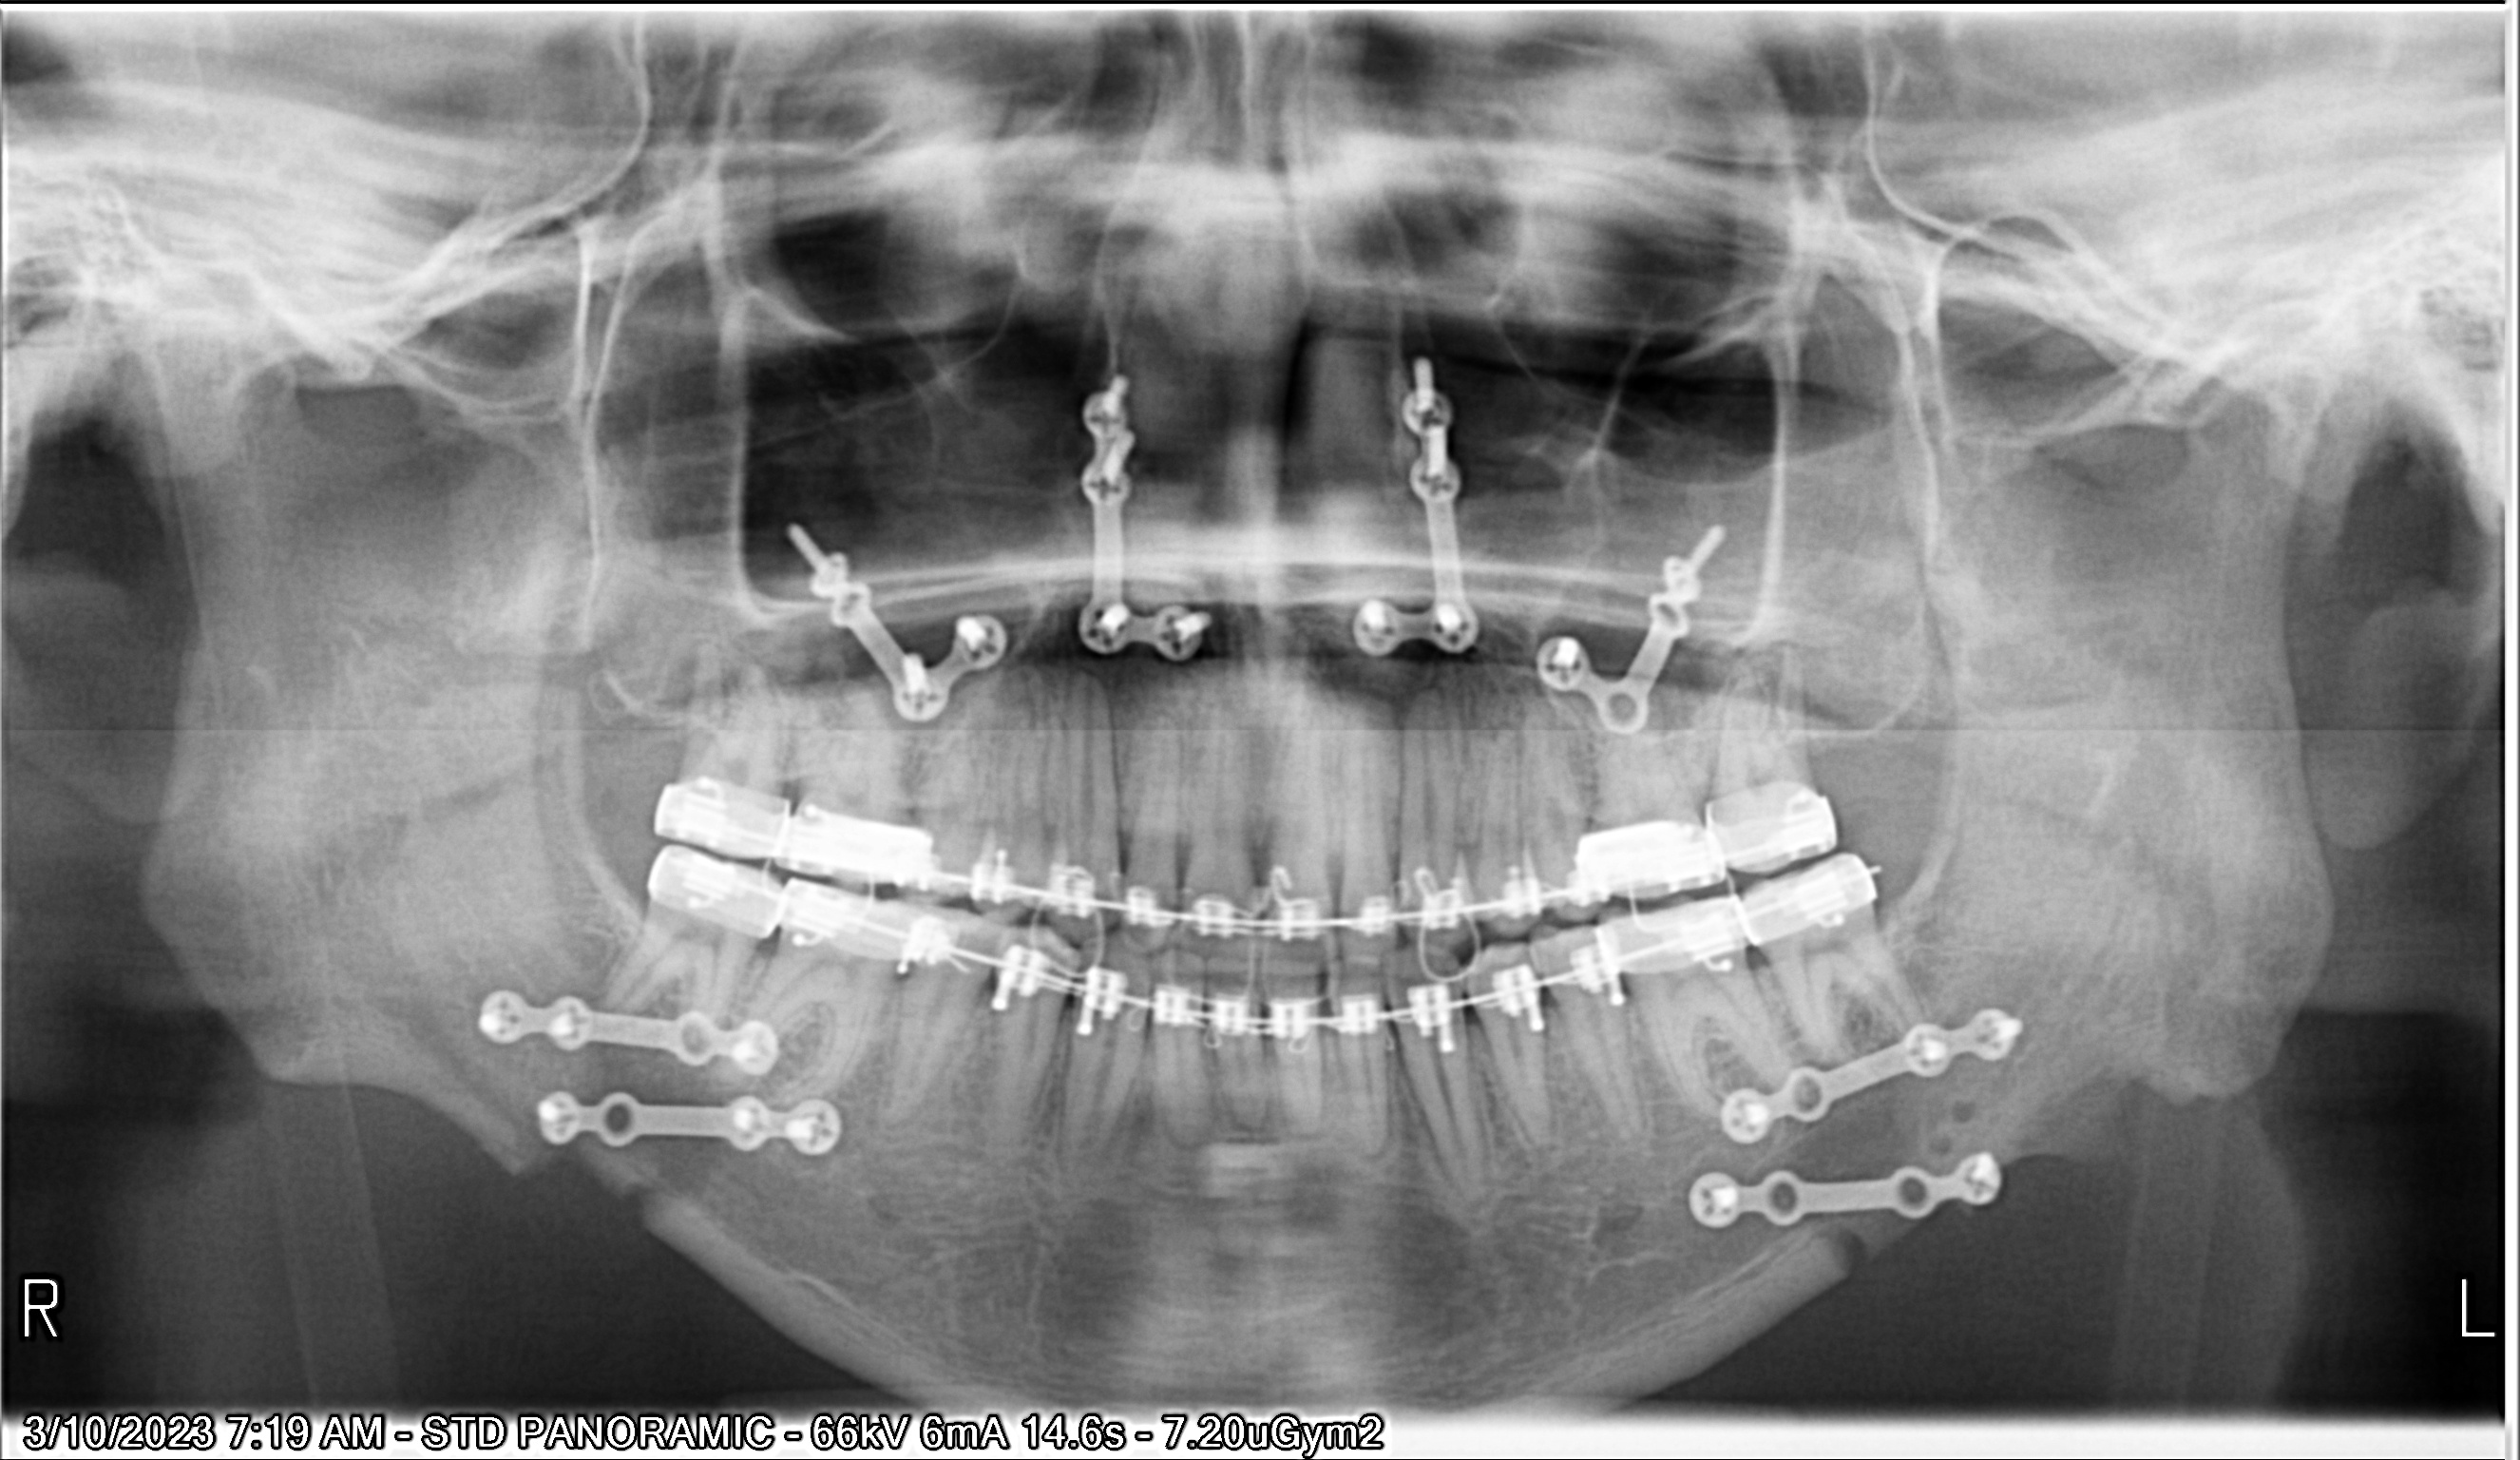ORD: (962, 829, 1591, 939), (643, 777, 952, 888), (896, 918, 1129, 1038), (1127, 970, 1393, 1052), (630, 879, 933, 947), (1395, 958, 1615, 1046), (1577, 803, 1733, 899), (1737, 845, 1884, 942), (1608, 888, 1758, 975), (1702, 780, 1834, 873)
SRD: (768, 495, 1014, 732), (1705, 994, 2034, 1149), (1521, 509, 1737, 742), (1061, 360, 1217, 680), (1348, 334, 1483, 674), (458, 968, 802, 1088), (1676, 1137, 2015, 1248), (518, 1065, 856, 1170)
